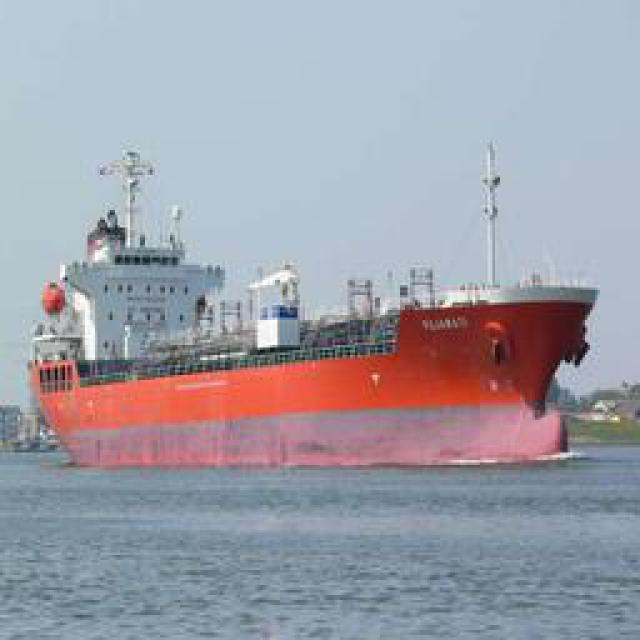Ship: (27, 130, 600, 478)
